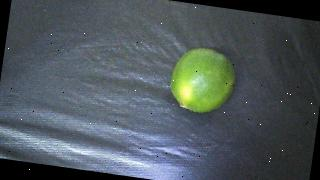LOCAL: (166, 44, 238, 117)
